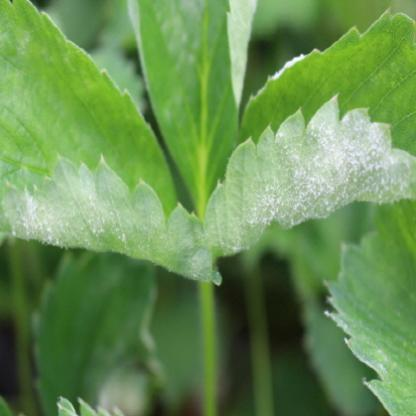Strawberry_Powdery_Mildew_Leaf: (0, 0, 223, 286), (202, 6, 415, 259), (127, 0, 257, 217)
